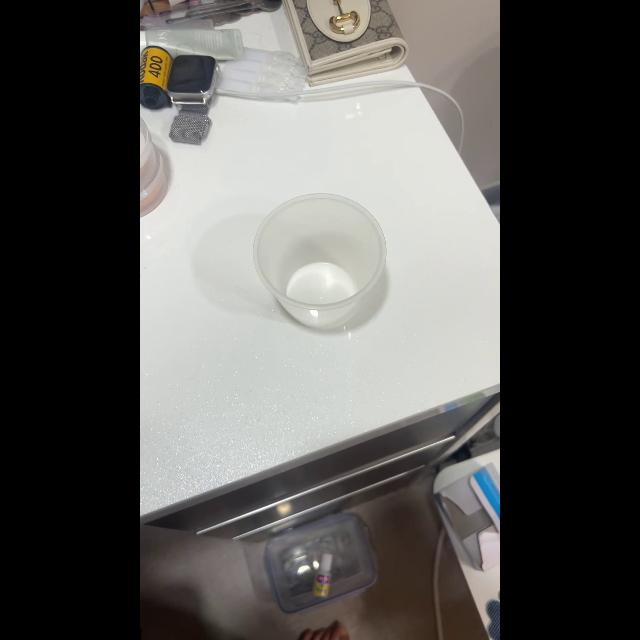clean: (252, 192, 386, 330)
